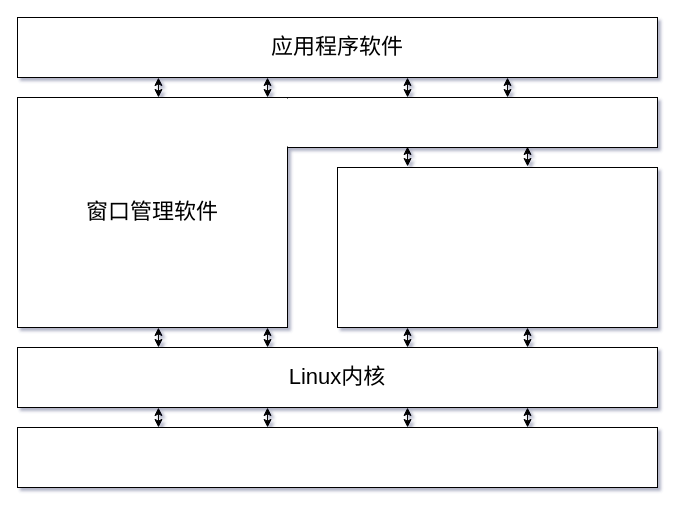
The diagram is 681 pixels wide and 511 high, and some of its shapes have lost their labels. Each missing label, with the centre of its shape:
"GUN系统实用工具" goes at pixel 497 247.
"计算机硬件" goes at pixel 337 457.
